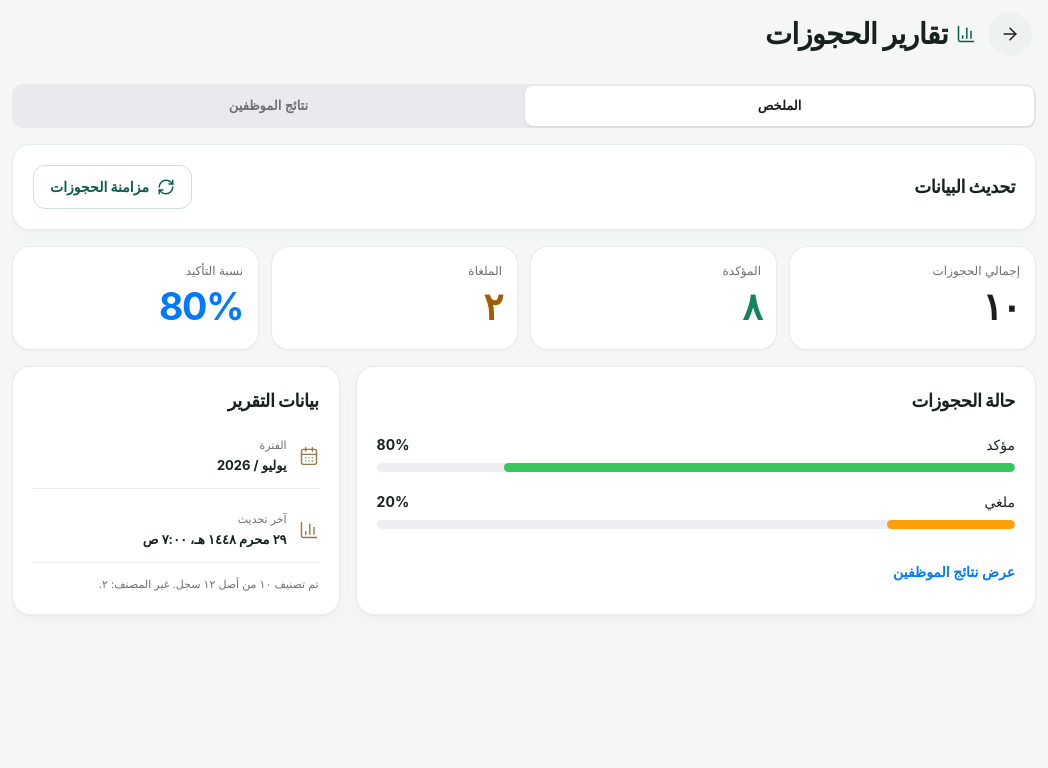
it: public read-only reports › runs a viewer-requested refresh in place without exposing internal settings
Click the button "مزامنة الحجوزات" at point(112, 187), box x1=33 y1=165 x2=192 y2=209
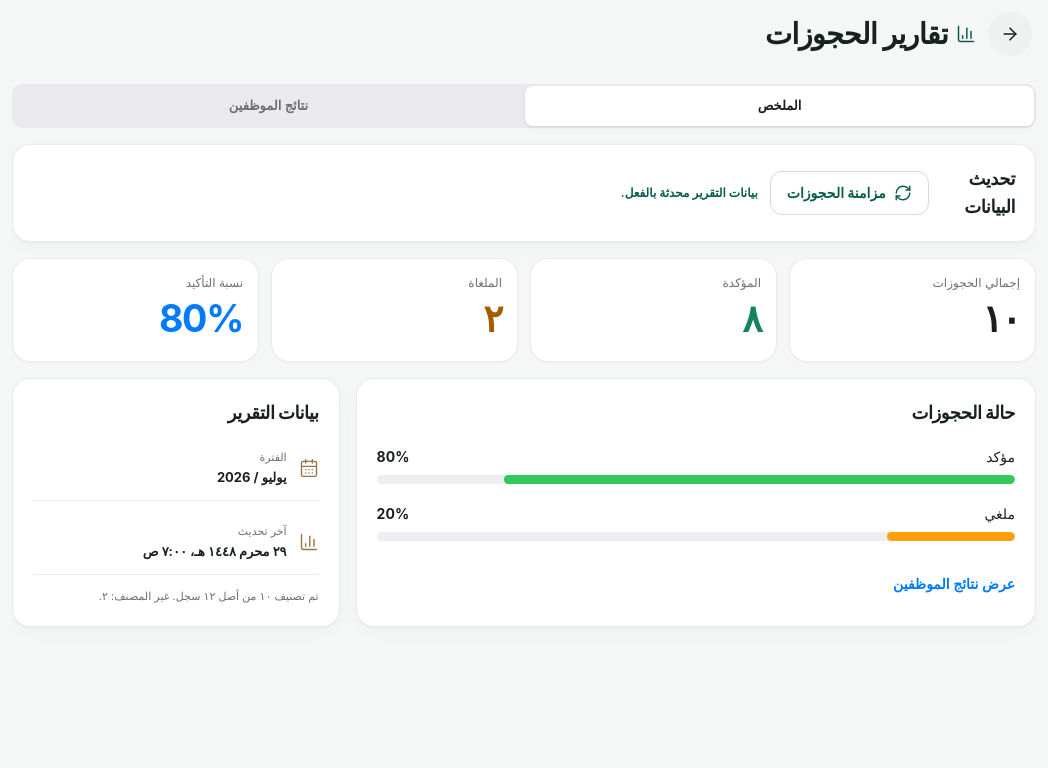
expect the text "بيانات التقرير محدثة بالفعل." is shown: met, box x1=621 y1=185 x2=758 y2=200
